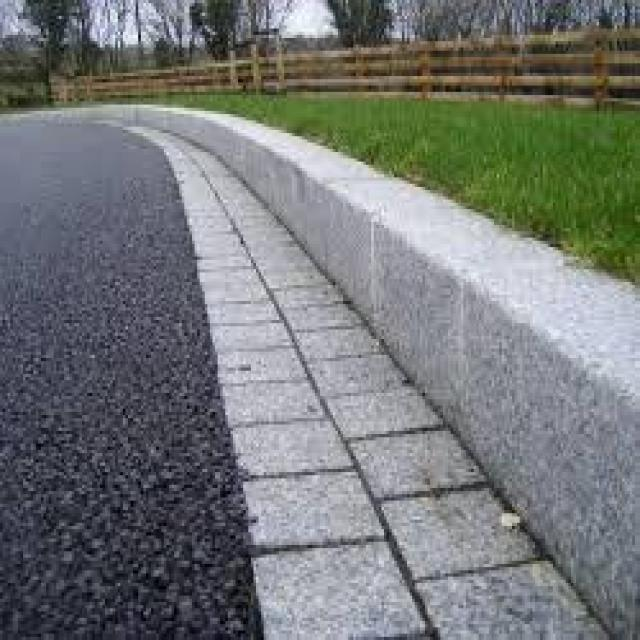curb: (330, 162, 560, 474), (501, 248, 640, 634), (246, 112, 345, 267), (116, 104, 277, 151), (42, 106, 107, 127)
